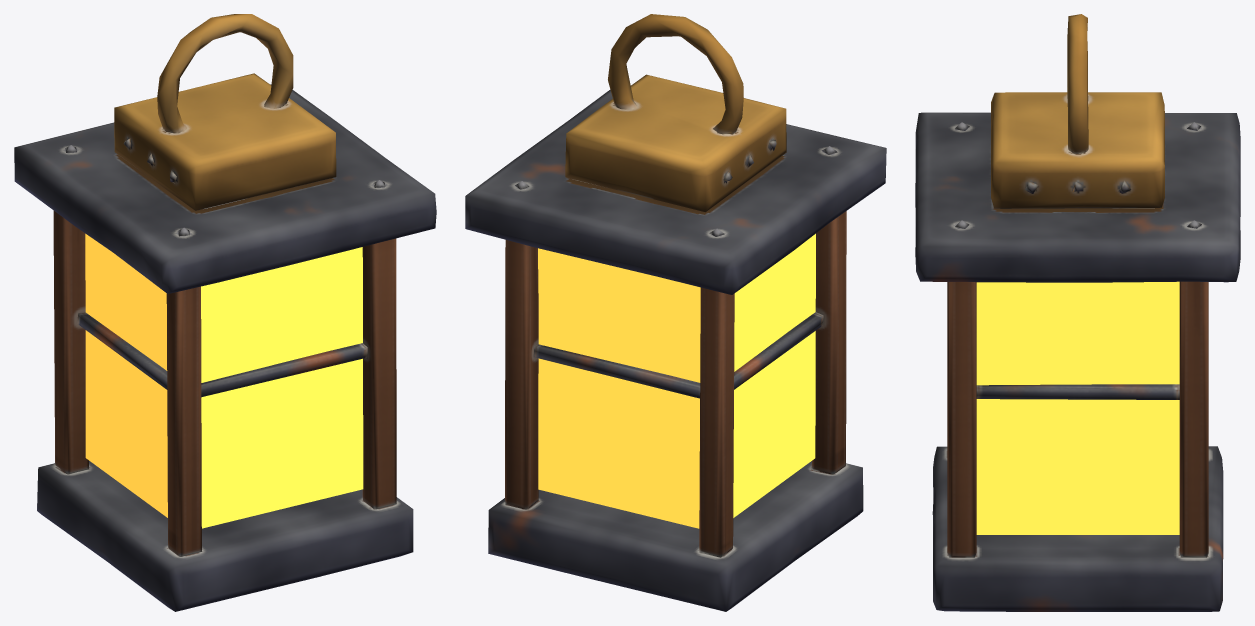
The model's file is camp_lantern.glb.
3 renders of one model, left to right at view 1: azimuth 30°, elevation 25°; view 2: azimuth 150°, elevation 25°; view 3: azimuth 270°, elevation 25°, orthographic. The views are drawn at different scales.
Parts seen in each view (by area): view 1: camp_lantern, lantern_glass; view 2: camp_lantern, lantern_glass; view 3: camp_lantern, lantern_glass.
Part boxes in pixels (bbox=[...]): camp_lantern: bbox=[14, 14, 436, 611]; lantern_glass: bbox=[85, 233, 363, 528]; camp_lantern: bbox=[465, 14, 886, 611]; lantern_glass: bbox=[538, 233, 815, 528]; camp_lantern: bbox=[915, 14, 1240, 611]; lantern_glass: bbox=[976, 281, 1179, 534].
Size of the model in its own units: 0.5605 by 1.02 by 0.5603.
2 materials, 1 textured.
